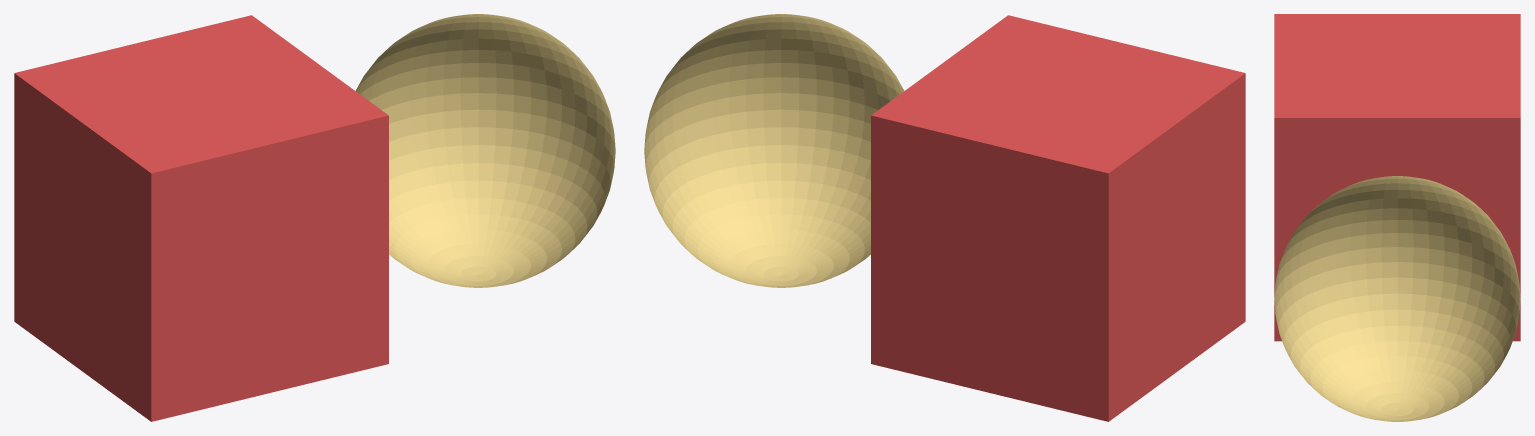
File: box-and-ball.glb
3 views of the same model, side by side, from view 1: azimuth 30°, elevation 25°; view 2: azimuth 150°, elevation 25°; view 3: azimuth 270°, elevation 25° (orthographic). The views are drawn at different scales.
Size of the model in its own units: 1.3 by 0.6 by 0.6.
